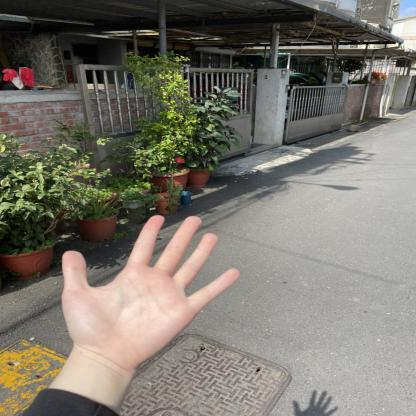bare_hand: (51, 208, 248, 374)
